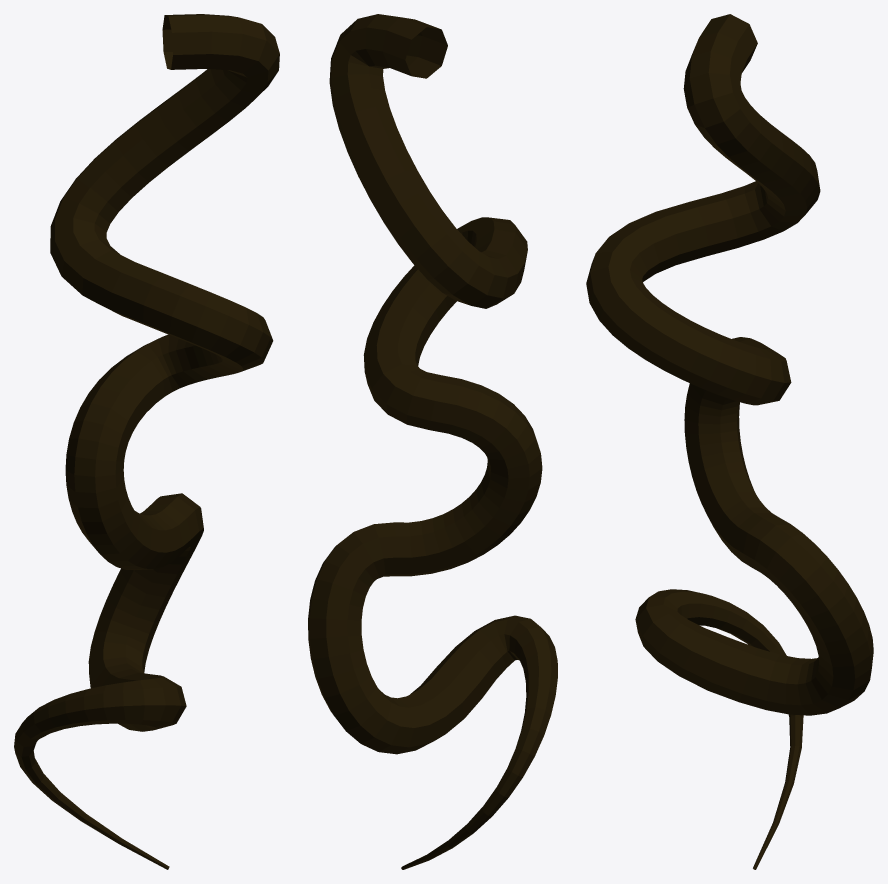
File: Zarośl.fbx
The picture shows the model from 3 angles, left to right: view 1: azimuth 30°, elevation 25°; view 2: azimuth 150°, elevation 25°; view 3: azimuth 270°, elevation 25°; orthographic projection. The views are drawn at different scales.
Parts seen in each view (by area): view 1: BezierCurve.009; view 2: BezierCurve.009; view 3: BezierCurve.009.
Boxes of the visible parts, <box> form: BezierCurve.009: <box>14,14,279,869</box>; BezierCurve.009: <box>308,14,557,869</box>; BezierCurve.009: <box>586,14,873,869</box>.
Size of the model in its own units: 0.4414 by 1.55 by 0.475.
